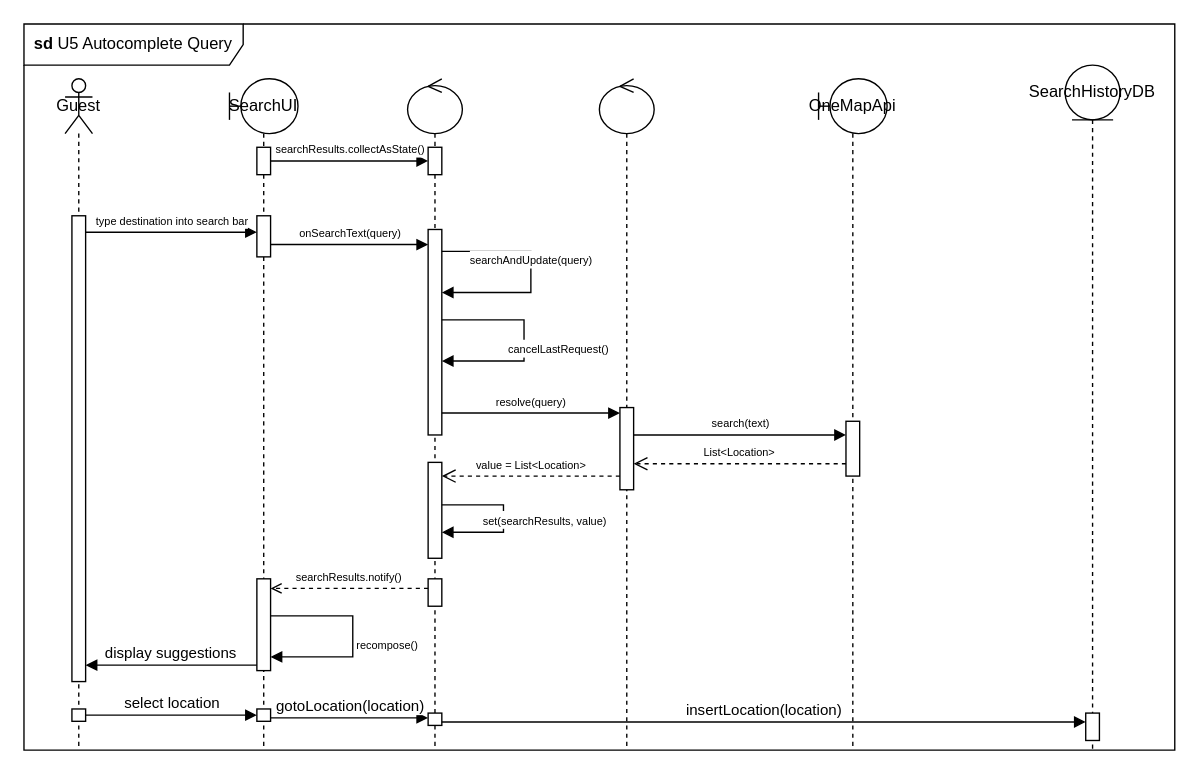
Some shapes in this 1199 by 774 pixel diagram are drawn without their labels. Here are the shapes that lost their labels. From the top down, the box of each, then its label:
(406, 77, 462, 750): SearchViewModel
(598, 77, 654, 750): LocationService
